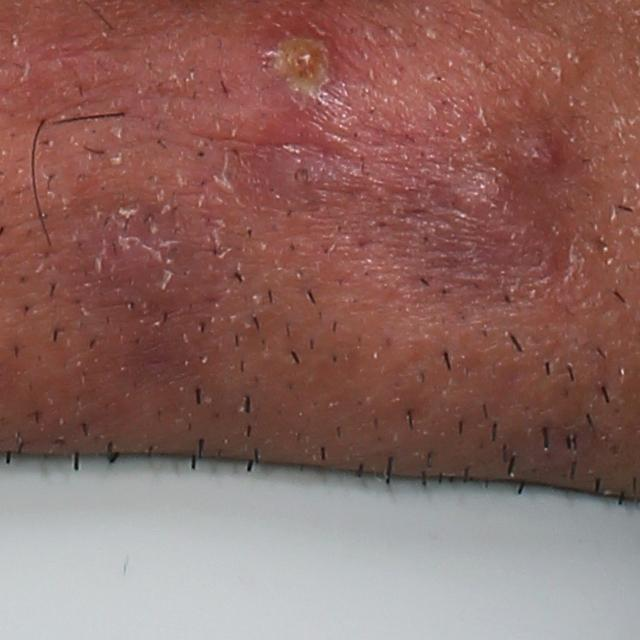papule: (261, 142, 336, 210), (439, 168, 520, 227), (500, 125, 563, 185)
pustule: (265, 18, 340, 116)
